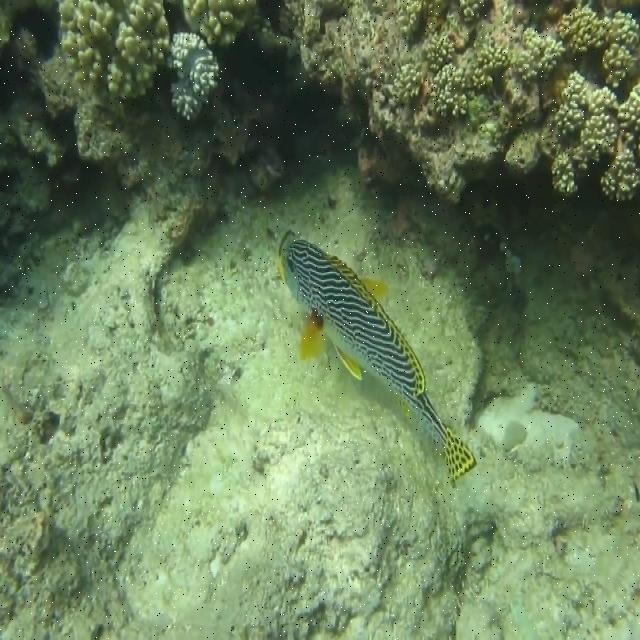fish: (278, 230, 475, 487)
